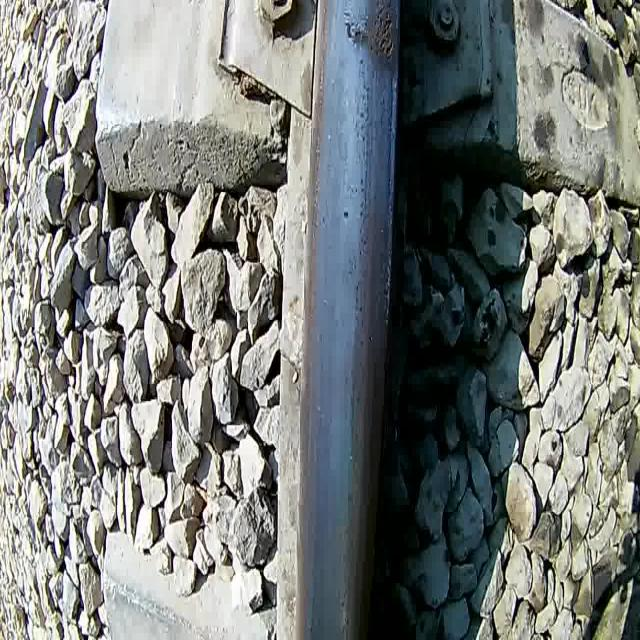Spallings: (368, 0, 397, 66)
Squats: (340, 0, 404, 84)
